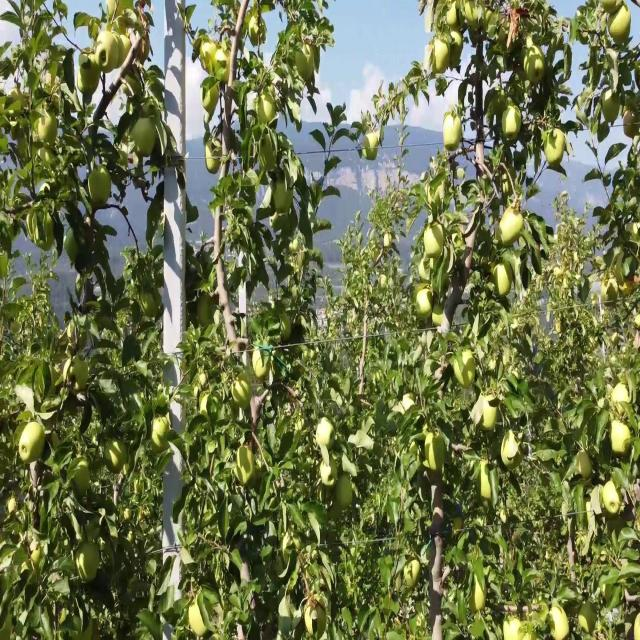apple: (20, 419, 47, 464), (88, 163, 112, 212), (236, 440, 258, 489), (76, 56, 101, 98), (608, 7, 632, 50), (96, 28, 117, 76), (456, 348, 477, 391), (612, 419, 633, 460), (152, 412, 172, 455), (444, 113, 464, 155), (504, 206, 525, 245), (500, 213, 524, 247), (296, 42, 315, 84), (136, 120, 158, 156), (524, 49, 546, 85), (36, 213, 56, 252), (548, 604, 570, 639), (504, 106, 524, 144), (108, 440, 129, 476), (260, 135, 279, 174), (133, 28, 152, 66), (80, 547, 100, 583), (424, 227, 445, 260), (504, 433, 523, 469), (260, 92, 279, 128), (496, 263, 515, 299), (480, 398, 499, 434), (548, 127, 565, 167), (72, 462, 92, 496), (188, 604, 208, 638), (272, 184, 295, 213), (612, 383, 630, 420), (40, 113, 60, 146), (604, 483, 623, 517), (124, 71, 143, 105), (232, 376, 252, 407), (336, 476, 353, 512), (316, 419, 336, 448), (488, 92, 508, 121), (252, 348, 272, 377), (200, 42, 217, 76), (216, 49, 232, 85), (448, 35, 464, 71), (604, 92, 621, 124), (117, 35, 133, 69), (624, 106, 640, 140), (312, 604, 328, 638), (120, 35, 134, 73), (144, 291, 162, 320), (320, 462, 338, 489), (208, 142, 221, 178), (364, 135, 380, 164), (204, 85, 220, 114), (580, 604, 596, 633), (204, 92, 220, 121), (200, 298, 215, 327), (416, 291, 432, 318), (40, 227, 56, 254), (428, 184, 443, 212), (116, 7, 130, 36), (504, 618, 523, 639), (604, 277, 618, 304), (248, 21, 262, 48), (436, 42, 448, 73), (408, 561, 421, 588), (208, 149, 220, 178), (68, 234, 80, 263), (620, 277, 635, 299), (480, 7, 493, 32), (464, 7, 479, 28), (136, 1, 148, 27), (188, 199, 200, 224), (108, 0, 119, 27), (32, 547, 43, 574), (476, 583, 486, 612), (420, 255, 430, 284), (280, 319, 292, 343), (480, 476, 492, 500), (272, 213, 286, 233), (496, 220, 505, 251), (448, 7, 460, 30), (580, 455, 592, 478), (0, 618, 13, 639), (432, 305, 444, 327), (136, 7, 148, 28), (200, 391, 209, 418), (600, 120, 611, 142), (436, 78, 448, 98), (428, 469, 441, 485), (232, 270, 241, 292), (264, 0, 276, 14), (292, 106, 301, 123), (384, 234, 392, 251), (456, 519, 464, 535), (636, 63, 640, 91), (4, 255, 9, 277), (392, 234, 399, 249), (380, 277, 388, 290), (564, 277, 570, 290), (392, 270, 398, 279)
